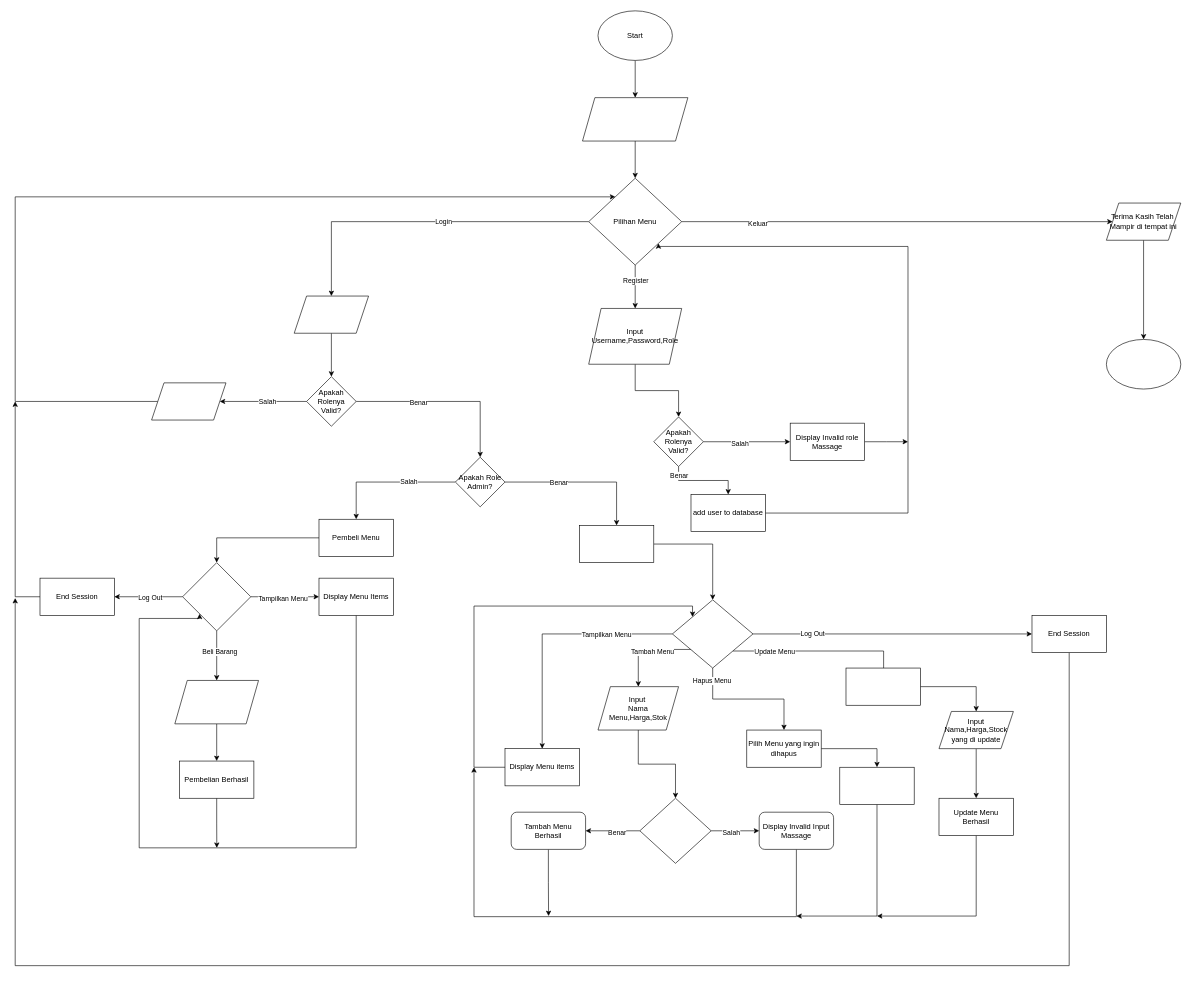
Image size: 1192x981. Some labels were removed from this diagram. Here are the shapes that lost their labels. From the top down, the centre of each, then its label:
the point at 635,119: Output Selamat Datang di Angkringan MAMA AIDIL LOVE
the point at 331,314: Input Username,Password
the point at 1143,364: End
the point at 188,401: Role anda tidak valid
the point at 616,544: Admin Menu
the point at 216,596: Tampilan Pembeli
the point at 712,633: Tampilan Admin
the point at 216,702: Input Nama Barang dan Jumlah yang ingin Di beli
the point at 882,686: Pilih menu yang ingin di update
the point at 876,785: Hapus Item Menu yang Dipilih
the point at 675,830: Apakah Harga dan Stok Valid?
